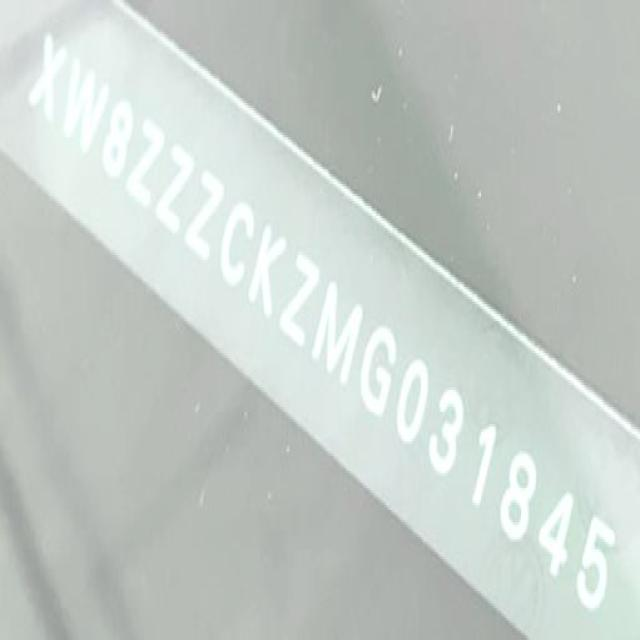0: (387, 349, 435, 455)
1: (465, 408, 502, 518)
3: (422, 377, 471, 486)
4: (533, 473, 584, 586)
5: (571, 507, 620, 622)
8: (490, 439, 543, 555), (95, 86, 139, 187)
C: (212, 191, 260, 302)
G: (351, 312, 400, 426)
K: (242, 215, 291, 323)
M: (307, 274, 367, 398)
W: (50, 52, 112, 163)
X: (22, 24, 70, 139)
Z: (275, 243, 324, 359), (150, 133, 199, 248), (121, 108, 169, 216), (181, 161, 229, 267)
